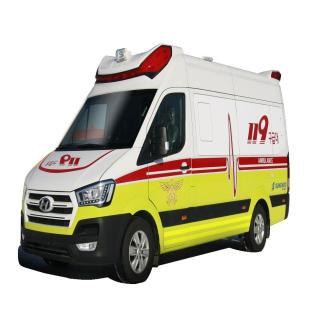Ambulance: (16, 8, 292, 292)
